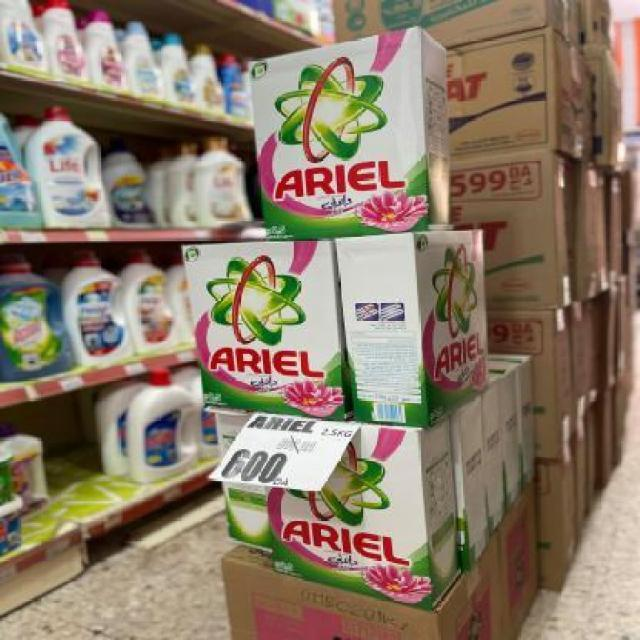Detergent: (249, 35, 437, 232), (268, 410, 439, 599), (182, 246, 346, 420), (343, 231, 491, 419)
